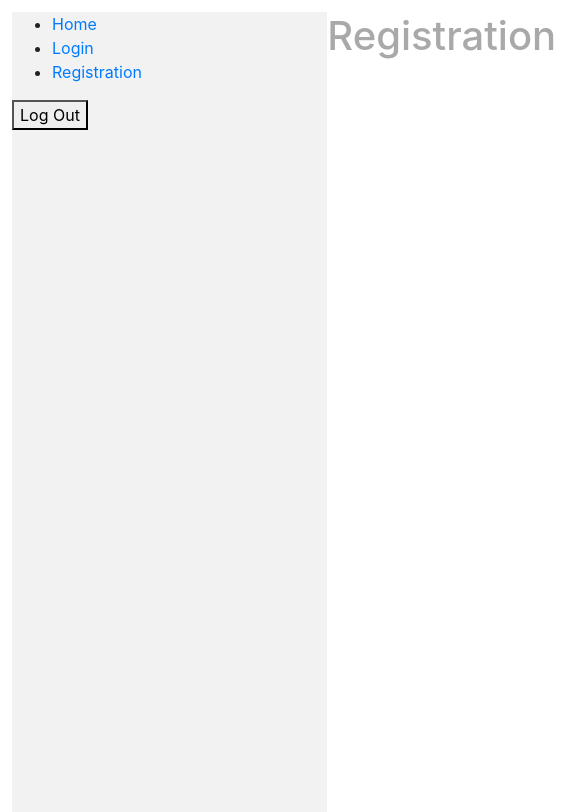
Scenario: Menu › Logout Button › Log user out
This screenshot has width=571, height=812.
Click the button with test id "logout-button" at (50, 115), box [12, 100, 88, 130]
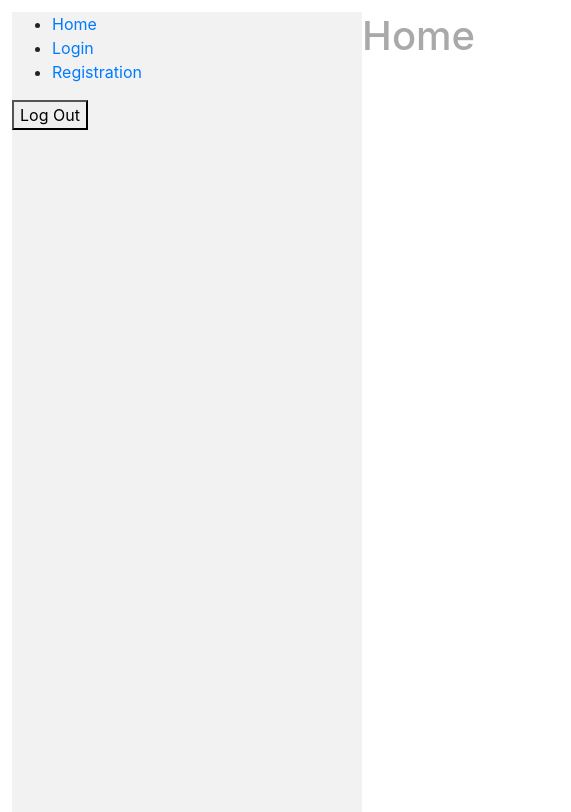
Expected: the heading with test id "home-page" reads "Home", [362, 11, 475, 60]
